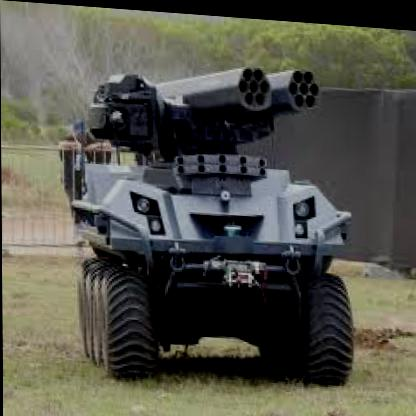UGV: (69, 141, 354, 392)
